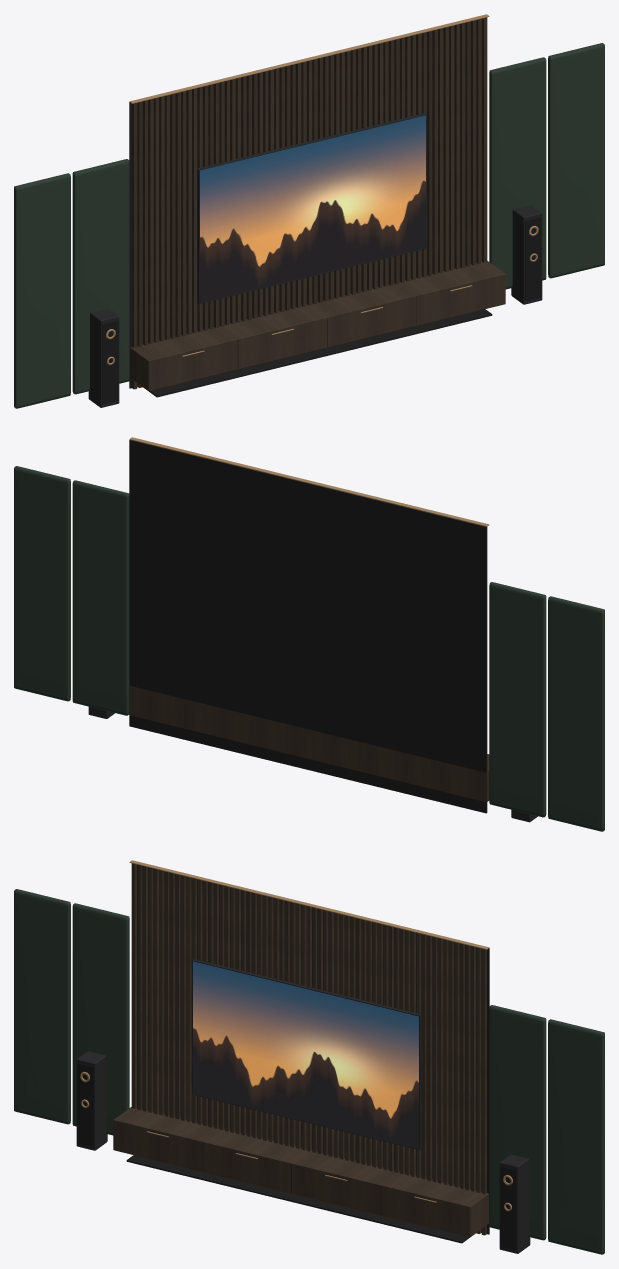
File: living_media_wall.gltf
3 renders of one model, top to bottom at view 1: azimuth 30°, elevation 25°; view 2: azimuth 150°, elevation 25°; view 3: azimuth 330°, elevation 25°, orthographic.
Parts seen in each view (by area): view 1: LivingMediaWall_Slats, LivingMediaWall_Screen, LivingMediaWall_Credenza, LivingMediaWall_PanelR1, LivingMediaWall_PanelL1, LivingMediaWall_PanelL0, LivingMediaWall_PanelR0, LivingMediaWall_SlatBacking, LivingMediaWall_Plinth, LivingMediaWall_SpeakerL, LivingMediaWall_SpeakerR, LivingMediaWall_TVBody (+3 smaller); view 2: LivingMediaWall_SlatBacking, LivingMediaWall_PanelL0, LivingMediaWall_PanelR0, LivingMediaWall_PanelR1, LivingMediaWall_PanelL1, LivingMediaWall_Credenza, LivingMediaWall_SlatCap; view 3: LivingMediaWall_Slats, LivingMediaWall_Screen, LivingMediaWall_Credenza, LivingMediaWall_PanelL1, LivingMediaWall_PanelR1, LivingMediaWall_PanelR0, LivingMediaWall_PanelL0, LivingMediaWall_SlatBacking, LivingMediaWall_Plinth, LivingMediaWall_SpeakerR, LivingMediaWall_SpeakerL, LivingMediaWall_TVBody (+3 smaller).
Part boxes in pixels (x1,y1,x2,y2): LivingMediaWall_Slats: (132, 17, 487, 389); LivingMediaWall_Screen: (200, 115, 425, 302); LivingMediaWall_Credenza: (130, 261, 505, 391); LivingMediaWall_PanelR1: (548, 43, 604, 278); LivingMediaWall_PanelL1: (14, 173, 70, 408); LivingMediaWall_PanelL0: (72, 159, 129, 394); LivingMediaWall_PanelR0: (489, 57, 546, 289); LivingMediaWall_SlatBacking: (129, 19, 481, 388); LivingMediaWall_Plinth: (149, 309, 492, 397); LivingMediaWall_SpeakerL: (88, 308, 119, 407); LivingMediaWall_SpeakerR: (511, 205, 542, 304); LivingMediaWall_TVBody: (197, 113, 426, 303); LivingMediaWall_SlatBacking: (129, 440, 487, 813); LivingMediaWall_PanelL0: (489, 582, 546, 817); LivingMediaWall_PanelR0: (72, 480, 129, 715); LivingMediaWall_PanelR1: (14, 466, 70, 701); LivingMediaWall_PanelL1: (548, 596, 604, 831); LivingMediaWall_Credenza: (129, 686, 489, 801); LivingMediaWall_SlatCap: (129, 437, 489, 526); LivingMediaWall_Slats: (131, 863, 486, 1235); LivingMediaWall_Screen: (193, 961, 418, 1148); LivingMediaWall_Credenza: (113, 1107, 489, 1237); LivingMediaWall_PanelL1: (14, 889, 70, 1124); LivingMediaWall_PanelR1: (548, 1019, 604, 1254); LivingMediaWall_PanelR0: (489, 1005, 546, 1240); LivingMediaWall_PanelL0: (72, 903, 129, 1135); LivingMediaWall_SlatBacking: (137, 865, 489, 1234); LivingMediaWall_Plinth: (126, 1155, 469, 1243); LivingMediaWall_SpeakerR: (499, 1154, 530, 1253); LivingMediaWall_SpeakerL: (76, 1051, 107, 1150); LivingMediaWall_TVBody: (192, 959, 421, 1149).
Size of the model in its own units: 8.08 by 3.76 by 0.472.
7 materials, 2 textured.
